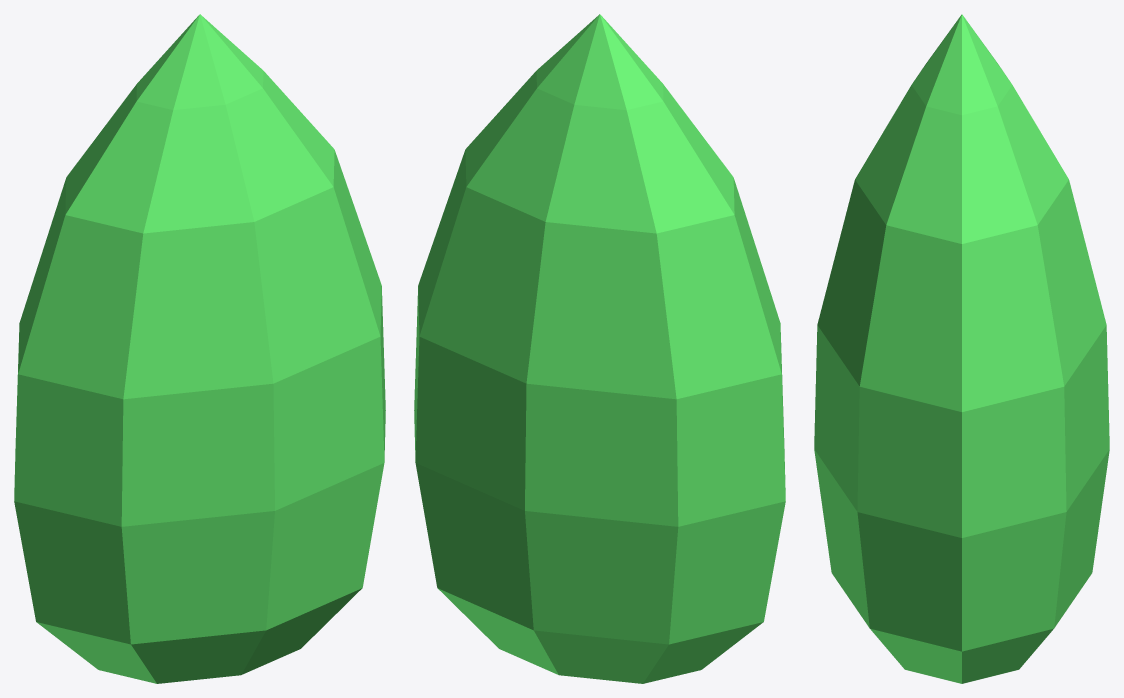
Rendered from Emerald.fbx.
3 renders of one model, left to right at view 1: azimuth 30°, elevation 25°; view 2: azimuth 150°, elevation 25°; view 3: azimuth 270°, elevation 25°, orthographic.
Visible parts, largest first — view 1: Emerald; view 2: Emerald; view 3: Emerald.
Part boxes in pixels (x1,y1,x2,y2): Emerald: [14, 14, 385, 683]; Emerald: [414, 14, 785, 683]; Emerald: [814, 14, 1109, 683].
Bounding box in the file's own units: 123 × 200 × 86.36.
